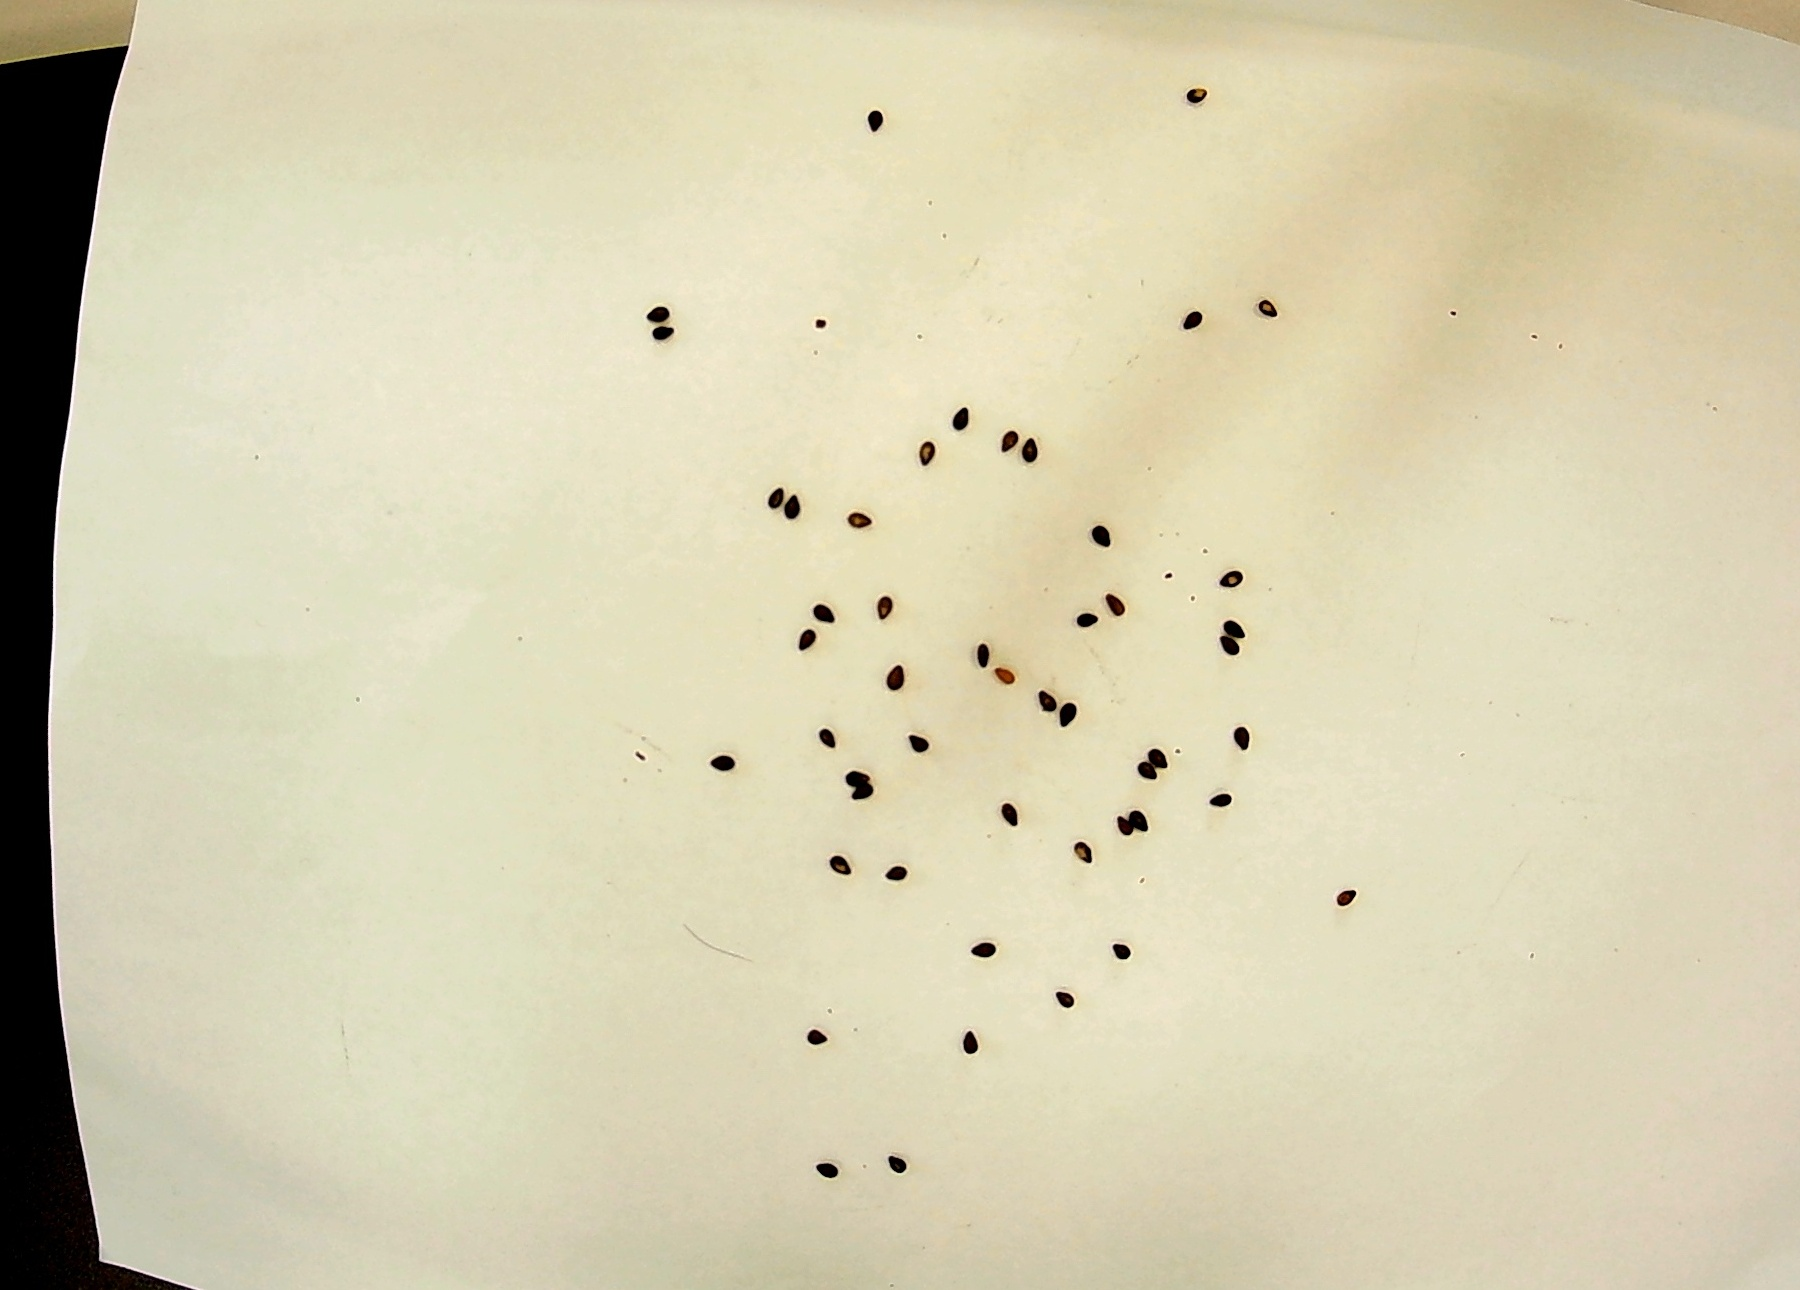sesami: (705, 739, 751, 787), (1012, 429, 1065, 470), (968, 422, 1021, 464), (921, 399, 974, 441), (896, 437, 949, 479), (788, 585, 841, 627), (783, 623, 836, 665), (869, 591, 922, 632), (795, 716, 848, 758), (836, 503, 889, 544), (635, 322, 688, 364), (631, 288, 682, 329), (748, 470, 788, 512), (880, 856, 925, 889), (815, 846, 860, 880), (795, 1021, 840, 1054), (800, 1153, 844, 1187), (1221, 611, 1266, 645), (890, 722, 933, 755), (878, 658, 921, 691), (873, 1152, 917, 1185), (1217, 563, 1261, 595), (998, 799, 1042, 831), (1201, 635, 1246, 667), (945, 1030, 988, 1062), (851, 109, 896, 140), (848, 107, 894, 137), (1014, 679, 1056, 711), (1051, 704, 1093, 736), (1217, 718, 1259, 750), (1104, 934, 1146, 966), (961, 926, 1003, 958), (1246, 295, 1287, 327), (1178, 80, 1218, 112), (1079, 519, 1119, 551), (1100, 586, 1140, 618), (1073, 605, 1113, 637), (960, 635, 1000, 667), (996, 663, 1037, 695), (1326, 882, 1366, 914), (1047, 981, 1087, 1014), (1053, 835, 1094, 867), (1173, 304, 1213, 336), (1148, 739, 1173, 778), (1199, 792, 1239, 815), (839, 780, 879, 804), (1109, 801, 1133, 840), (1130, 803, 1154, 840), (1136, 757, 1160, 794), (839, 769, 885, 787)
